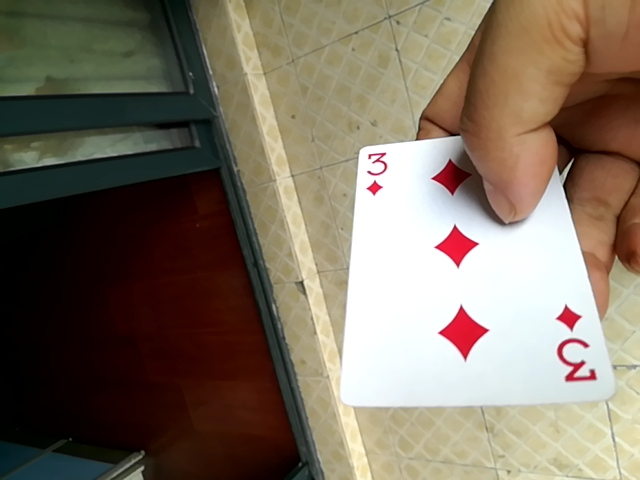fk 3: (332, 134, 608, 419)
